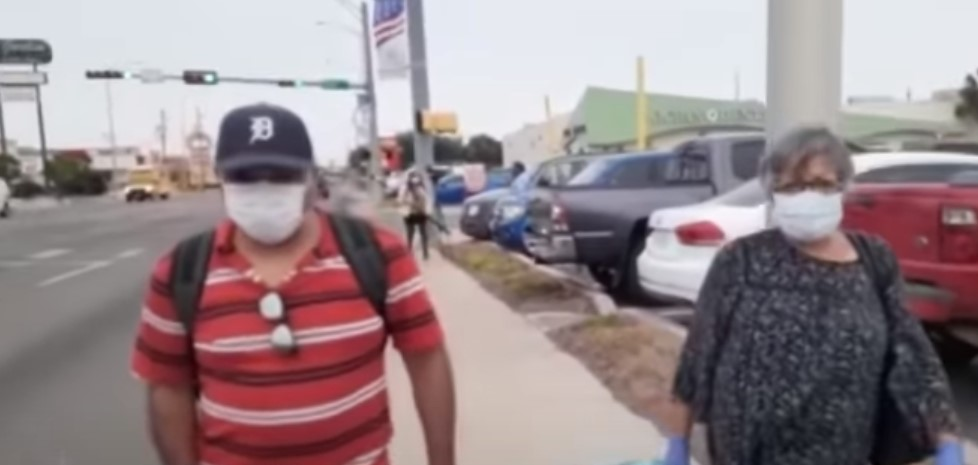face_with_mask: (208, 102, 319, 244), (765, 125, 857, 248)
